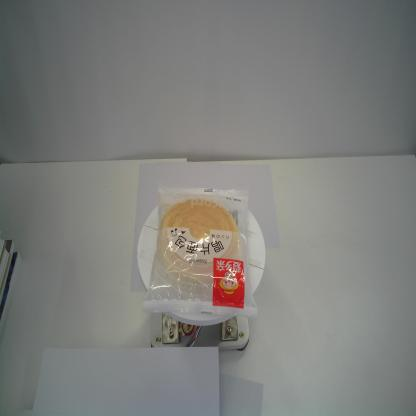Dessert: (138, 181, 260, 321)
